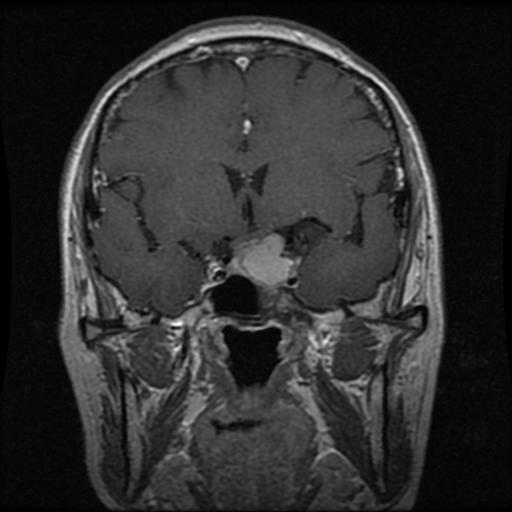Pituirity_tumour: (230, 235, 292, 283)
